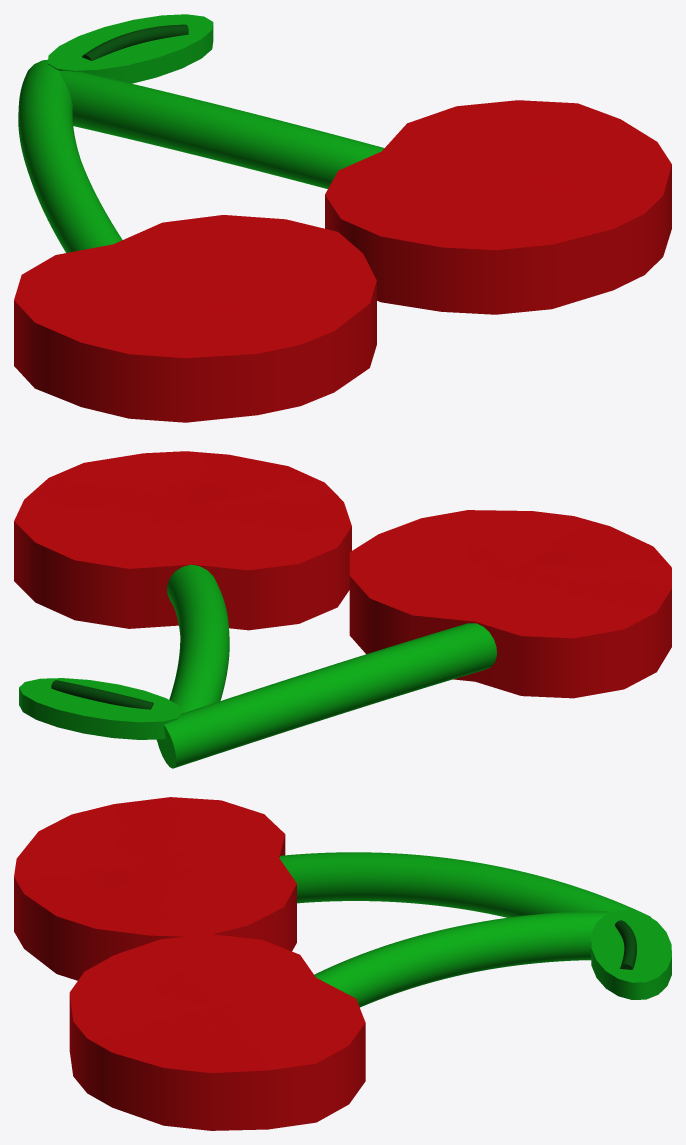
The model's file is 2d3dcheeries.FBX.
The picture shows the model from 3 angles, top to bottom: view 1: azimuth 30°, elevation 25°; view 2: azimuth 150°, elevation 25°; view 3: azimuth 270°, elevation 25°; orthographic projection. The views are drawn at different scales.
Parts seen in each view (by area): view 1: Cylinder015, Cylinder009, Cylinder011, Cylinder010, Cylinder012, Cylinder014; view 2: Cylinder009, Cylinder015, Cylinder010, Cylinder011, Cylinder012, Cylinder014; view 3: Cylinder009, Cylinder015, Cylinder010, Cylinder011, Cylinder012, Cylinder014.
Part boxes in pixels (bbox=[...]): Cylinder015: bbox=[14, 215, 376, 422]; Cylinder009: bbox=[325, 100, 671, 314]; Cylinder011: bbox=[60, 70, 384, 188]; Cylinder010: bbox=[18, 59, 122, 252]; Cylinder012: bbox=[47, 14, 213, 83]; Cylinder014: bbox=[82, 24, 188, 60]; Cylinder009: bbox=[14, 451, 351, 630]; Cylinder015: bbox=[349, 510, 671, 698]; Cylinder010: bbox=[157, 623, 496, 768]; Cylinder011: bbox=[156, 564, 229, 742]; Cylinder012: bbox=[19, 678, 183, 739]; Cylinder014: bbox=[51, 680, 153, 709]; Cylinder009: bbox=[69, 934, 365, 1130]; Cylinder015: bbox=[14, 797, 296, 980]; Cylinder010: bbox=[279, 852, 651, 917]; Cylinder011: bbox=[314, 911, 610, 1007]; Cylinder012: bbox=[591, 910, 671, 999]; Cylinder014: bbox=[614, 920, 636, 969].
Bounding box in the file's own units: 63.6 × 7.81 × 62.7.
